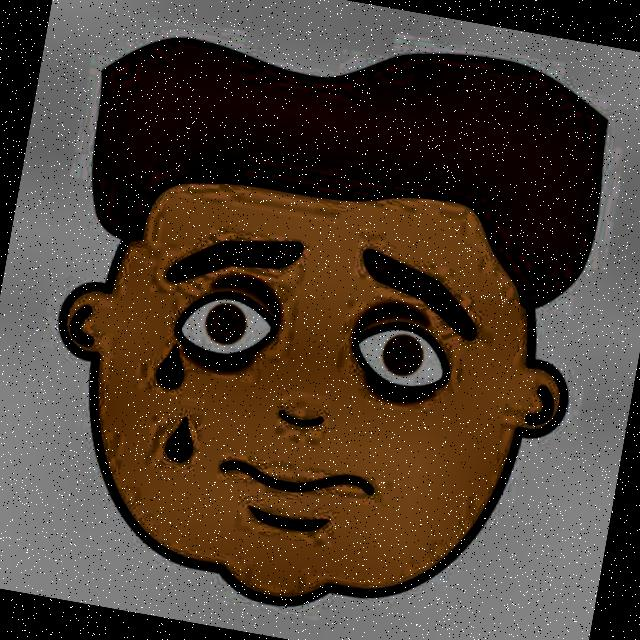sad: (26, 149, 616, 640)
